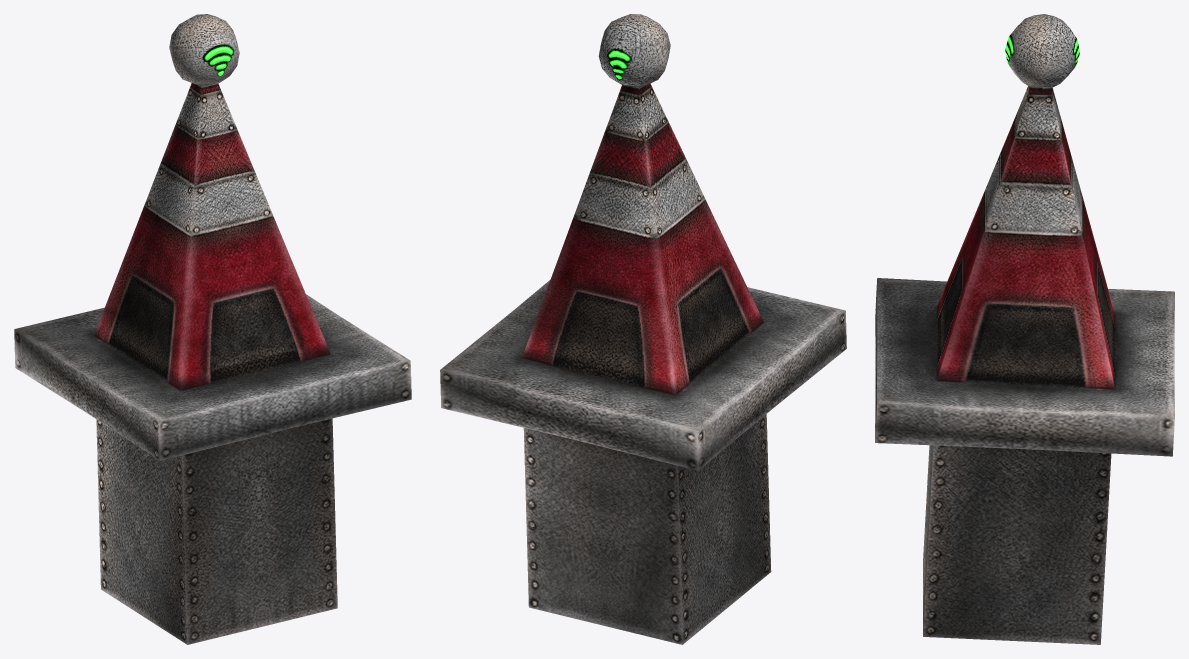
The model's file is HEAD_CHIBI_ANTENA.fbx.
3 renders of one model, left to right at view 1: azimuth 30°, elevation 25°; view 2: azimuth 150°, elevation 25°; view 3: azimuth 270°, elevation 25°, orthographic. The views are drawn at different scales.
Parts seen in each view (by area): view 1: head_Antenna; view 2: head_Antenna; view 3: head_Antenna.
Part boxes in pixels (x1,y1,x2,y2): head_Antenna: (14,14,411,644); head_Antenna: (440,14,846,644); head_Antenna: (875,14,1174,644).
Bounding box in the file's own units: 0.0276 × 0.0602 × 0.0277.
